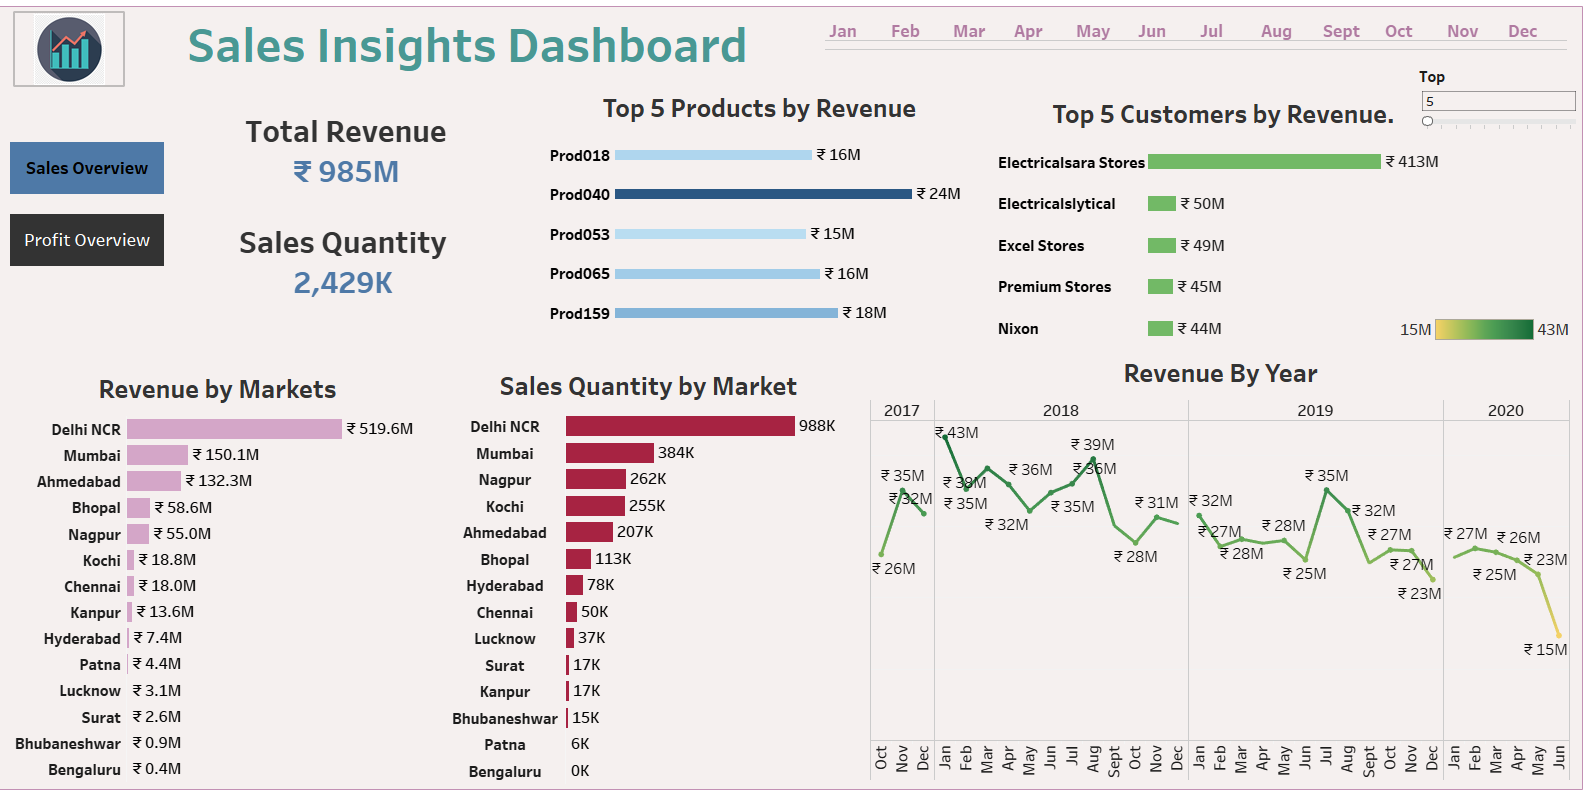

This screenshot's page, from the dashboard's own definition file:
{"tool":"tableau","page":{"name":"Sales Insights","canvas":[1600,800],"ordinal":1},"visuals":[{"type":"text","box":[163,15,627,60]},{"type":"image","param":"Image/png-clipart-sales-management-graph-of-a-function-marketing-service-logo.pn","box":[24,15.1,108,72]},{"type":"worksheet","title":"Months","mark":"Automatic","cols":["cy_date"],"box":[834,22,742,30]},{"type":"parameter","param":"[Parameters].[Parameter 1]","box":[1428,68,160,74]},{"type":"worksheet","title":"Top 5 products by Revenue","mark":"Automatic","rows":["product_code (Products)"],"cols":["Calculation_401946300623126528"],"box":[548,88,441,247]},{"type":"worksheet","title":"Top 5 Customers by Revenue","mark":"Automatic","rows":["custmer_name"],"cols":["Calculation_401946300623126528"],"box":[1001,94,463,257]},{"type":"worksheet","title":"Revenue","mark":"Automatic","box":[234,106.7,242,89.8]},{"type":"dashboard-object","box":[19,144,154,52]},{"type":"dashboard-object","box":[19,216,154,52]},{"type":"worksheet","title":"Sales Quantity","mark":"Automatic","box":[234,217,236,92]},{"type":"legend","title":"Revenue By Year","param":"[federated.0b4jy781ahifmt12zq1d500mey2e].[sum:Calculation_401946300623126528:qk]","box":[1405,317,178,26]},{"type":"worksheet","title":"Revenue By Year","mark":"Automatic","rows":["Calculation_401946300623126528"],"cols":["cy_date","cy_date"],"box":[879,353,701,430]},{"type":"worksheet","title":"Sales Quantity by Market","mark":"Automatic","rows":["markets_name"],"cols":["sales_qty"],"box":[454,366,407,420]},{"type":"worksheet","title":"Revenue by Markets","mark":"Automatic","rows":["markets_name"],"cols":["Calculation_401946300623126528"],"box":[15,369,423,415]}]}

Visuals, with their boxes in screenshot pixels (x1, y1, x2, y2), scaled from the page's 1600x800 canvas onto the 1591x797 screenshot:
text: (162,15,786,75)
image: (24,15,131,87)
"Months" worksheet: (829,22,1567,52)
parameter: (1420,68,1579,141)
"Top 5 products by Revenue" worksheet: (545,88,983,334)
"Top 5 Customers by Revenue" worksheet: (995,94,1456,350)
"Revenue" worksheet: (233,106,473,196)
dashboard-object: (19,143,172,195)
dashboard-object: (19,215,172,267)
"Sales Quantity" worksheet: (233,216,467,308)
"Revenue By Year" legend: (1397,316,1574,342)
"Revenue By Year" worksheet: (874,352,1571,780)
"Sales Quantity by Market" worksheet: (451,365,856,783)
"Revenue by Markets" worksheet: (15,368,436,781)
